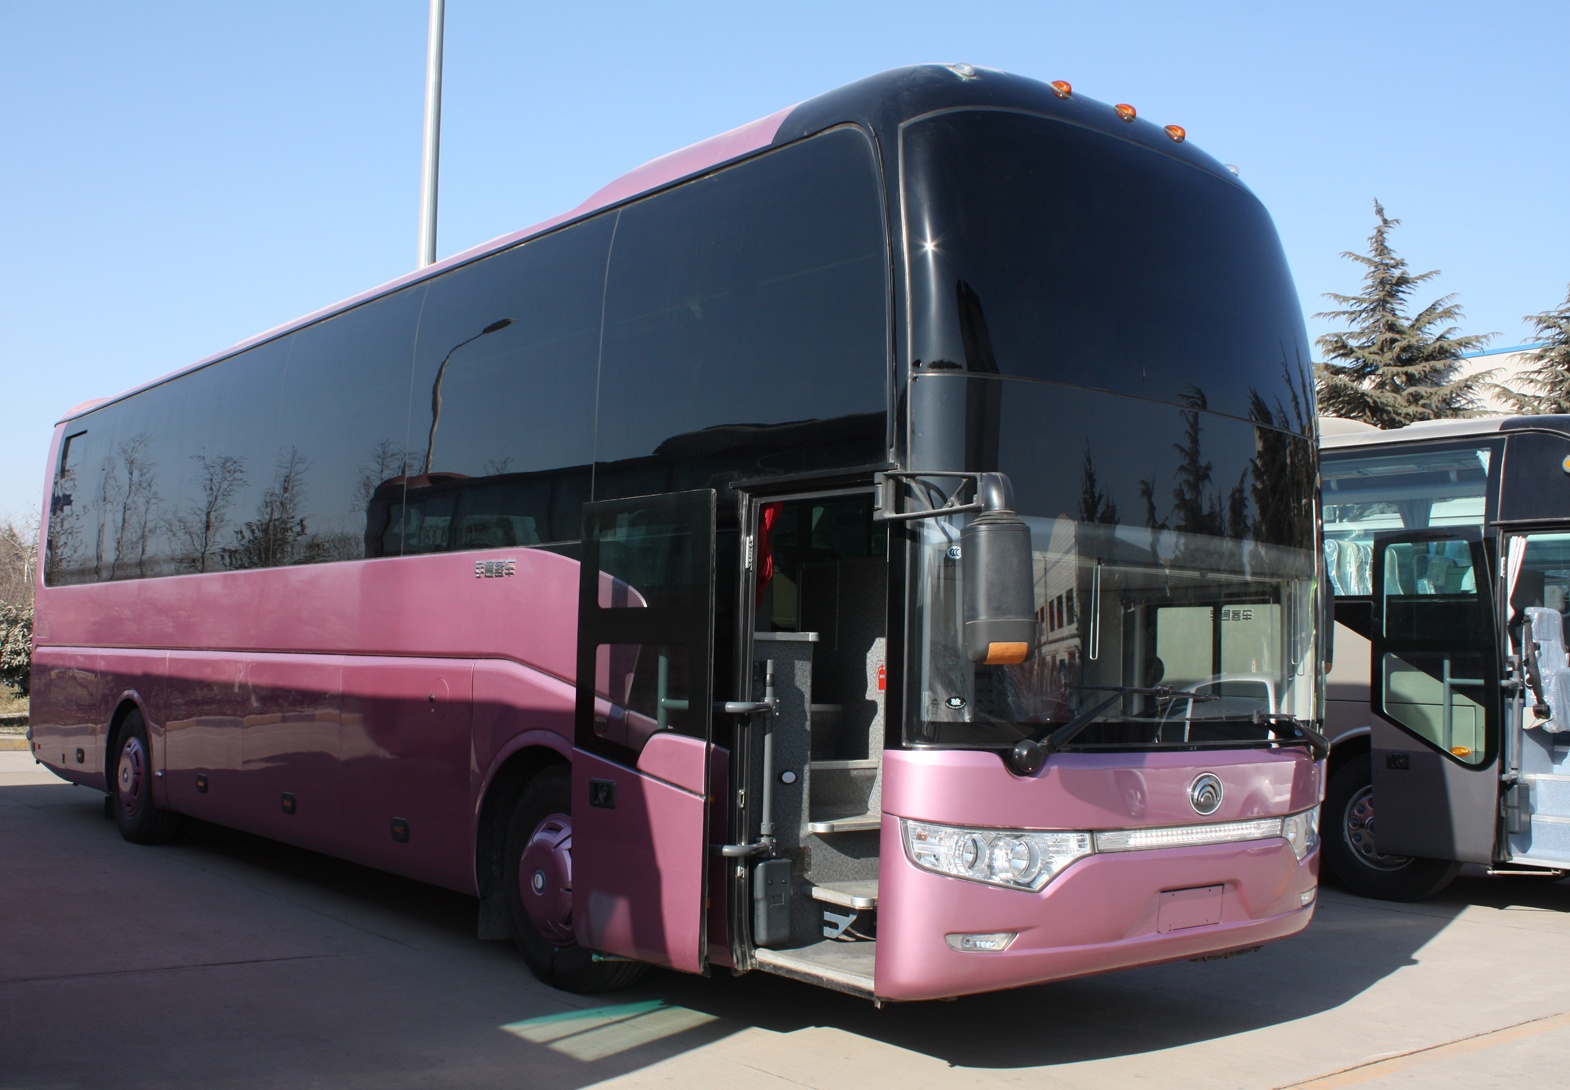bus: (21, 111, 1350, 987)
